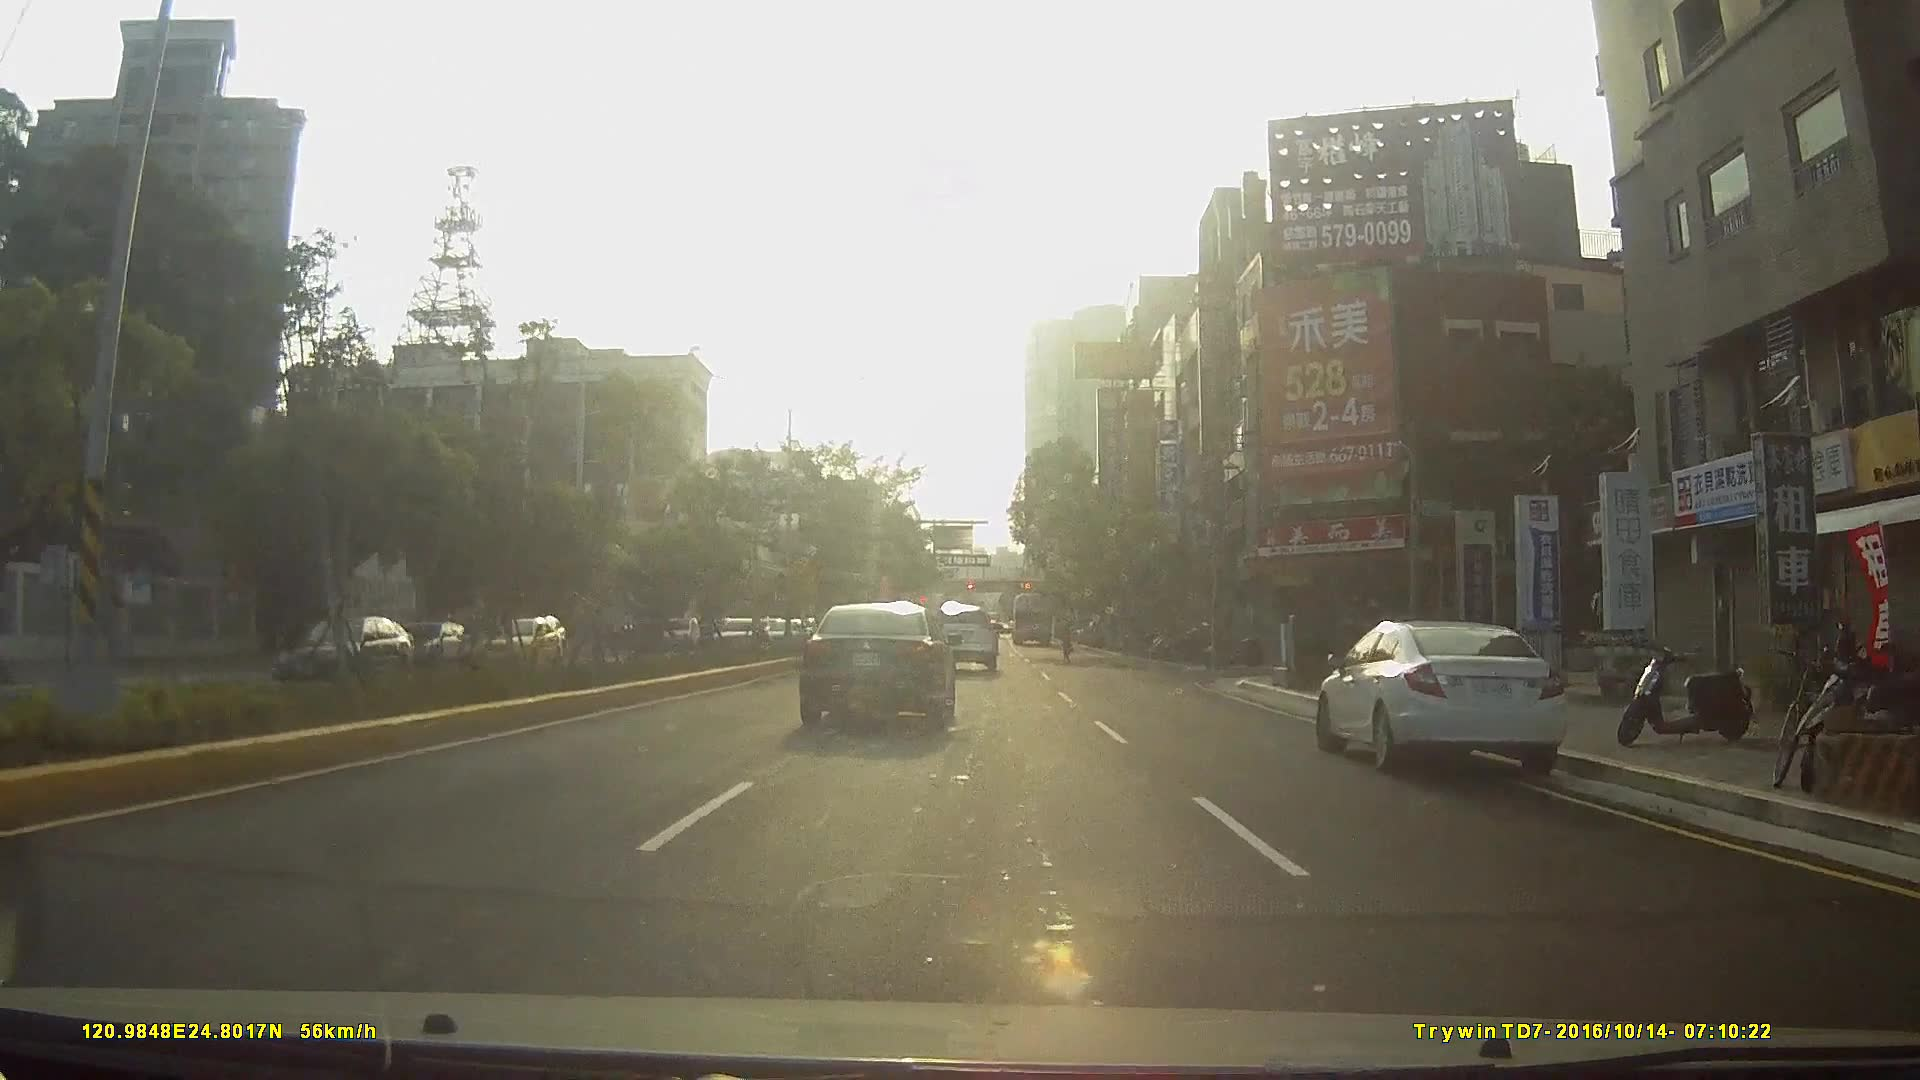vehicle: (1321, 616, 1586, 782), (796, 597, 957, 727), (255, 604, 421, 702), (469, 609, 571, 678), (923, 597, 1000, 673), (322, 615, 406, 669), (392, 617, 469, 665), (708, 616, 767, 658), (1009, 589, 1054, 645), (655, 615, 698, 651)
